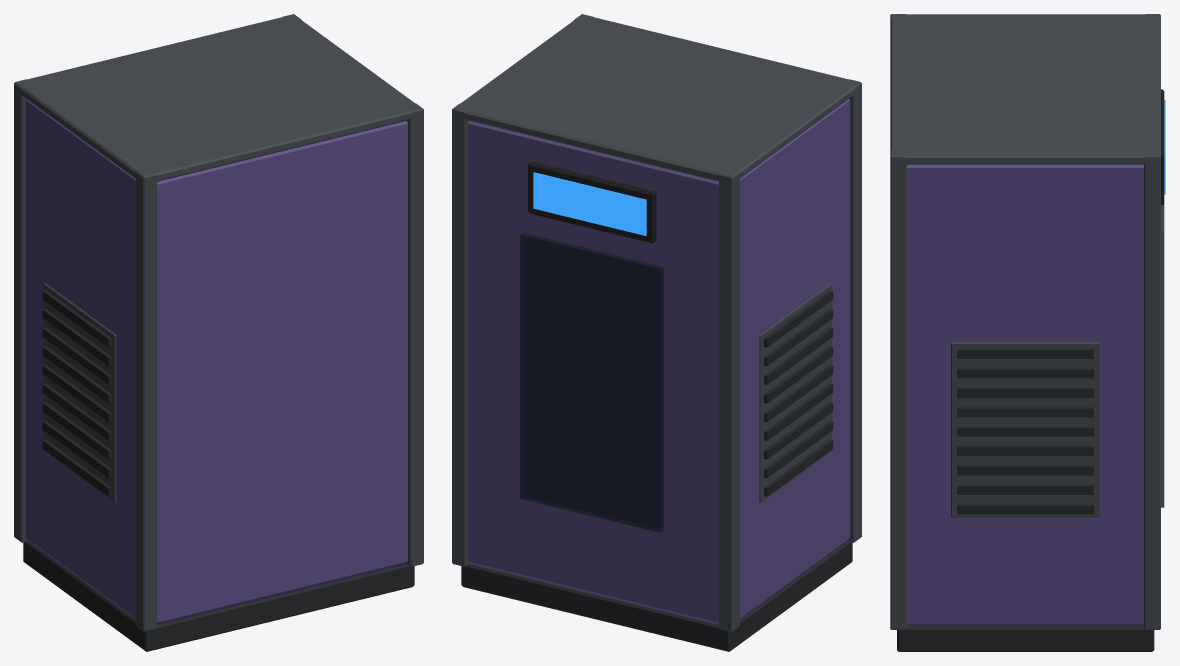
File: drive_stabiliser.glb
3 renders of one model, left to right at view 1: azimuth 30°, elevation 25°; view 2: azimuth 150°, elevation 25°; view 3: azimuth 270°, elevation 25°, orthographic. The views are drawn at different scales.
Visible parts, largest first — view 1: drive_stabiliser; view 2: drive_stabiliser; view 3: drive_stabiliser.
Boxes of the visible parts, x1=… form: drive_stabiliser: x1=14, y1=14, x2=423, y2=651; drive_stabiliser: x1=452, y1=14, x2=861, y2=651; drive_stabiliser: x1=890, y1=14, x2=1165, y2=651.
Size of the model in its own units: 1 by 1.6 by 0.8.
